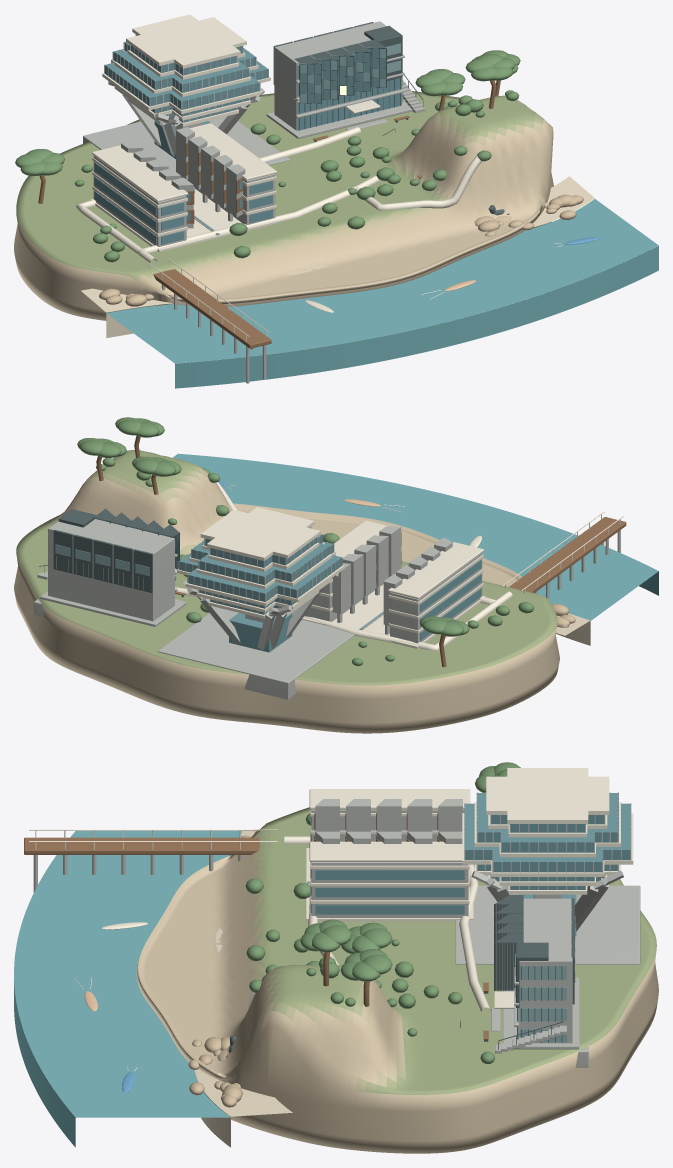
Rendered from miniature.glb.
3 views of the same model, one above another, from view 1: azimuth 30°, elevation 25°; view 2: azimuth 150°, elevation 25°; view 3: azimuth 270°, elevation 25° (orthographic). The views are drawn at different scales.
Visible parts, largest first — view 1: Miniature sandstone land, PacificSurface, Pacific relief edge, Native coastal planting, Geisel · Limestone trim, Salk · Limestone trim, Salk · Board formed concrete, Geisel · Pacific blue glazing, DIB · Board formed concrete, Geisel · Board formed concrete, DIB · Pacific blue glazing, Limestone pedestrian path (+8 smaller); view 2: Miniature sandstone land, PacificSurface, Geisel · Board formed concrete, DIB · Board formed concrete, Salk · Board formed concrete, Geisel · Limestone trim, Geisel · Pacific blue glazing, Salk · Limestone trim, DIB · Charcoal anodized fins, Native coastal planting, Research pier deck, Limestone pedestrian path (+6 smaller); view 3: Miniature sandstone land, PacificSurface, Geisel · Limestone trim, Geisel · Board formed concrete, Salk · Board formed concrete, Geisel · Pacific blue glazing, Salk · Limestone trim, DIB · Board formed concrete, Native coastal planting, Salk · Pacific blue glazing, DIB · Charcoal anodized fins, Research pier deck (+7 smaller).
Part boxes in pixels (left/top/right/bottom): Miniature sandstone land: left=14, top=91, right=553, bottom=320; PacificSurface: left=107, top=199, right=658, bottom=363; Pacific relief edge: left=175, top=246, right=658, bottom=388; Native coastal planting: left=15, top=50, right=520, bottom=262; Geisel · Limestone trim: left=102, top=14, right=270, bottom=126; Salk · Limestone trim: left=90, top=123, right=278, bottom=252; Salk · Board formed concrete: left=93, top=127, right=275, bottom=246; Geisel · Pacific blue glazing: left=105, top=35, right=267, bottom=158; DIB · Board formed concrete: left=266, top=21, right=425, bottom=138; Geisel · Board formed concrete: left=83, top=34, right=289, bottom=171; DIB · Pacific blue glazing: left=297, top=47, right=401, bottom=130; Limestone pedestrian path: left=75, top=127, right=482, bottom=262; Miniature sandstone land: left=14, top=450, right=559, bottom=733; PacificSurface: left=172, top=453, right=658, bottom=620; Geisel · Board formed concrete: left=157, top=527, right=354, bottom=699; DIB · Board formed concrete: left=34, top=519, right=186, bottom=626; Salk · Board formed concrete: left=304, top=526, right=482, bottom=643; Geisel · Limestone trim: left=177, top=507, right=344, bottom=618; Geisel · Pacific blue glazing: left=179, top=527, right=341, bottom=652; Salk · Limestone trim: left=302, top=520, right=485, bottom=648; DIB · Charcoal anodized fins: left=39, top=508, right=183, bottom=597; Native coastal planting: left=77, top=417, right=533, bottom=666; Research pier deck: left=509, top=517, right=626, bottom=592; Limestone pedestrian path: left=175, top=482, right=512, bottom=650; Miniature sandstone land: left=136, top=807, right=658, bottom=1153; PacificSurface: left=14, top=831, right=242, bottom=1117; Geisel · Limestone trim: left=462, top=768, right=633, bottom=894; Geisel · Board formed concrete: left=455, top=792, right=640, bottom=964; Salk · Board formed concrete: left=307, top=799, right=468, bottom=917; Geisel · Pacific blue glazing: left=464, top=793, right=630, bottom=936; Salk · Limestone trim: left=306, top=789, right=473, bottom=921; DIB · Board formed concrete: left=491, top=898, right=588, bottom=1067; Native coastal planting: left=245, top=762, right=520, bottom=1063; Salk · Pacific blue glazing: left=307, top=817, right=464, bottom=914; DIB · Charcoal anodized fins: left=460, top=894, right=574, bottom=1049; Research pier deck: left=24, top=837, right=259, bottom=854.
Bounding box in the file's own units: 21.03 × 6.26 × 19.21.
